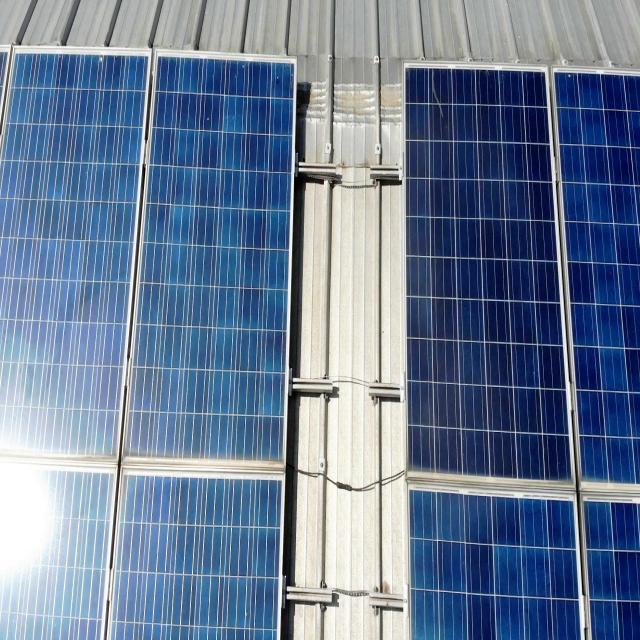faulty: (403, 62, 577, 500), (124, 62, 300, 474)
no faulty: (2, 48, 152, 463), (551, 72, 637, 498)
